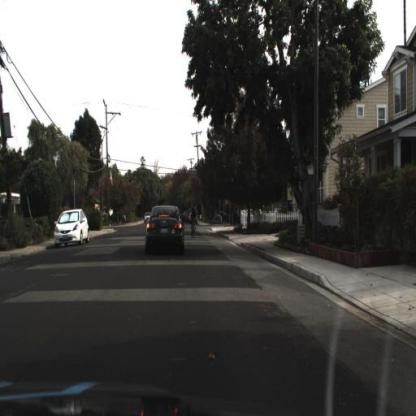biker: (189, 198, 201, 241), (191, 200, 200, 240)
car: (141, 201, 190, 265), (46, 208, 92, 249)
